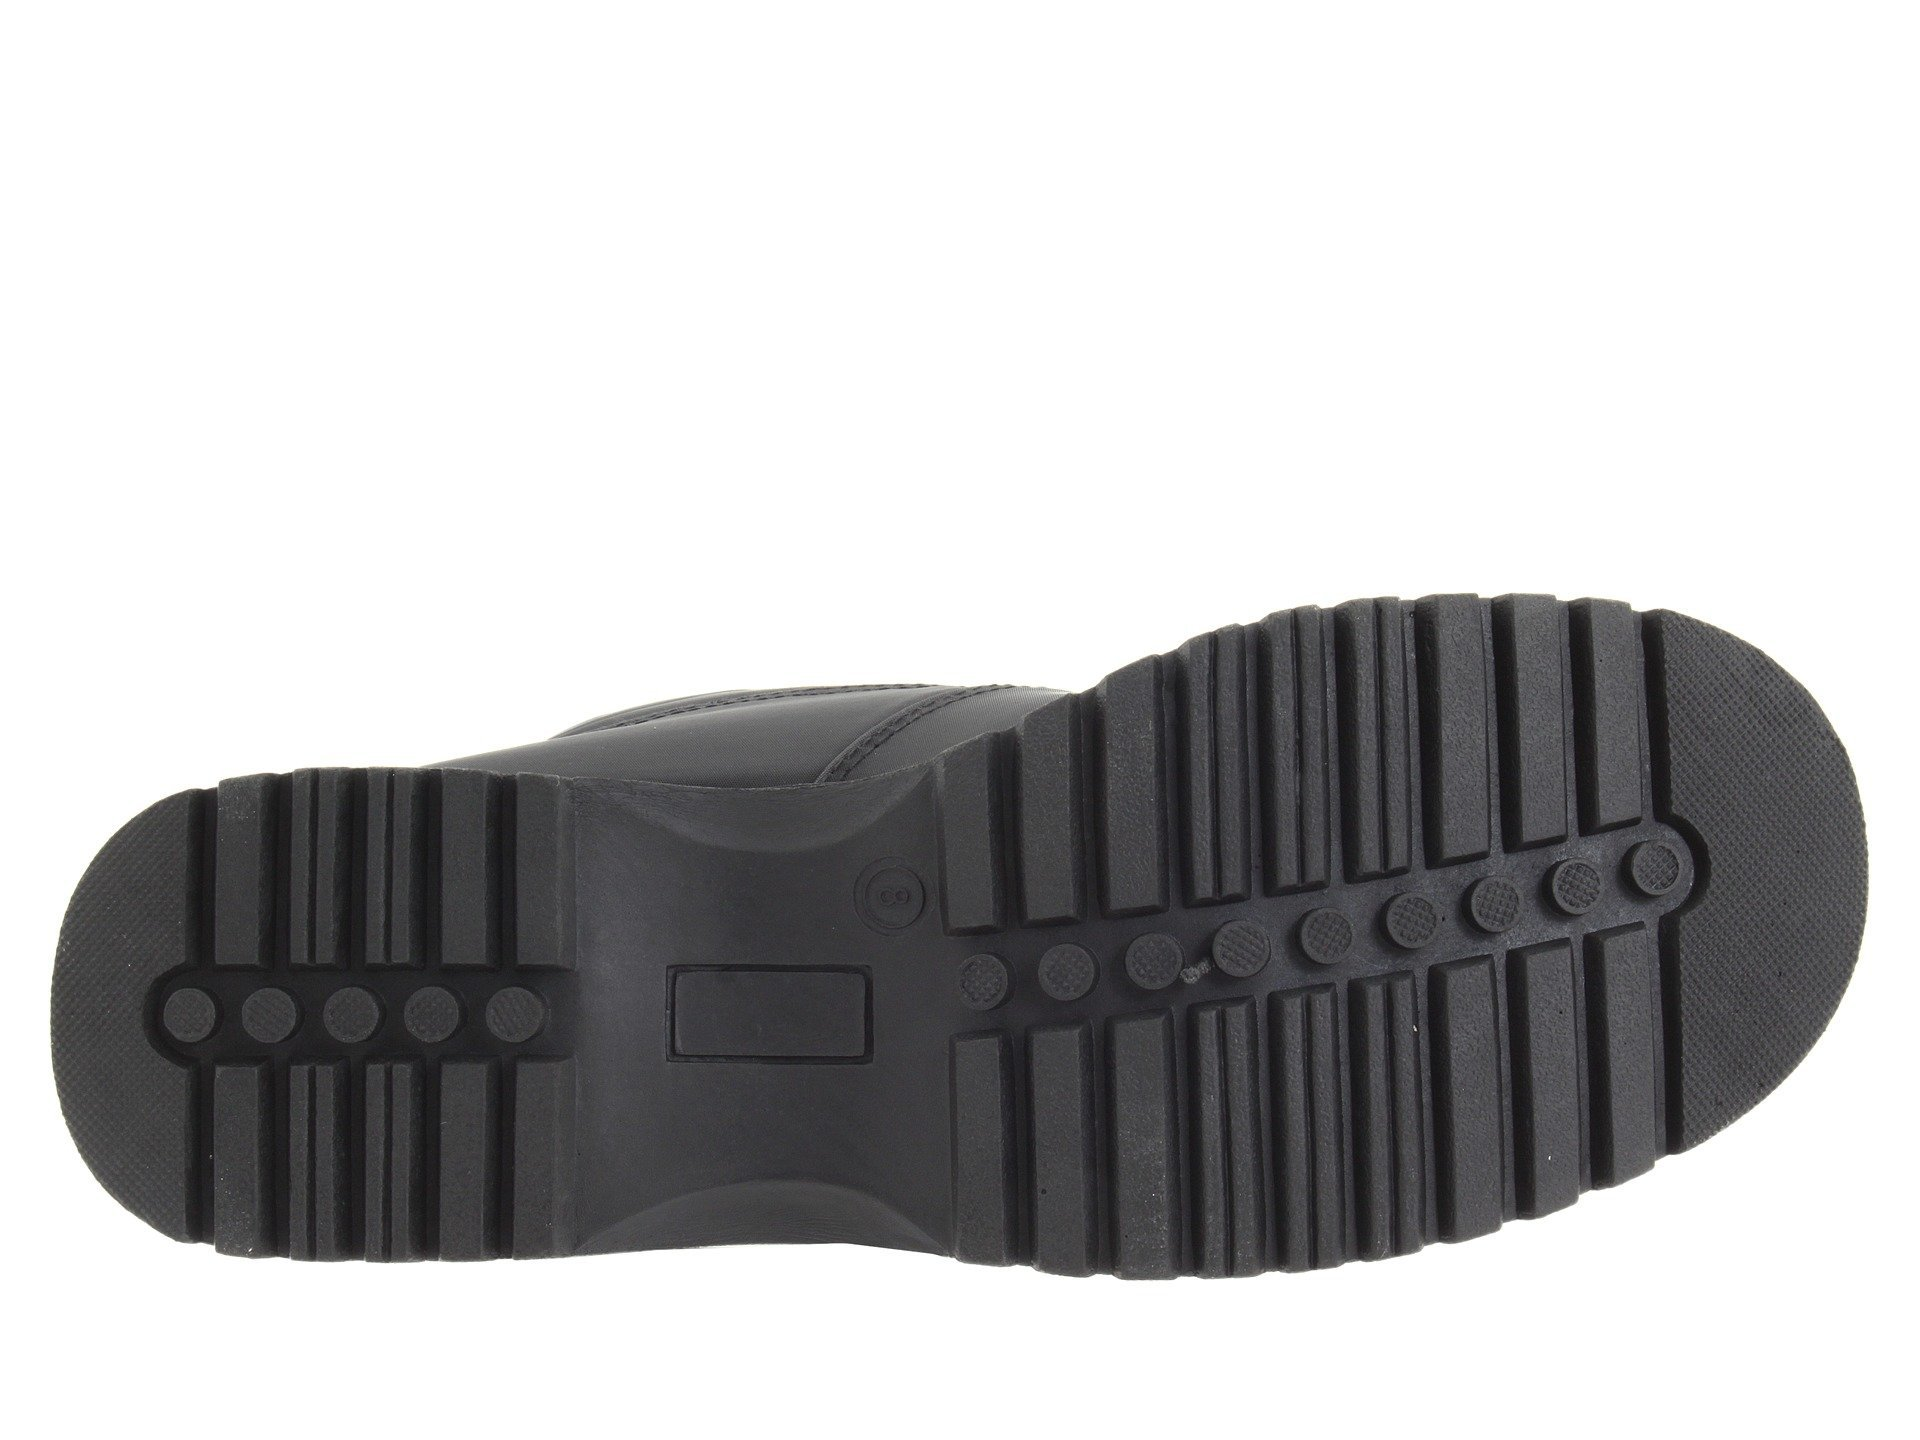circle: (1411, 594, 1658, 1166), (373, 759, 587, 1274), (212, 777, 360, 1269), (1185, 909, 1346, 1275), (942, 951, 1105, 1278)
quad: (1411, 594, 1658, 1166), (373, 759, 587, 1274), (212, 777, 360, 1269), (1185, 909, 1346, 1275), (942, 951, 1105, 1278), (627, 939, 883, 1101), (839, 852, 940, 942)
text: (839, 852, 940, 942)
